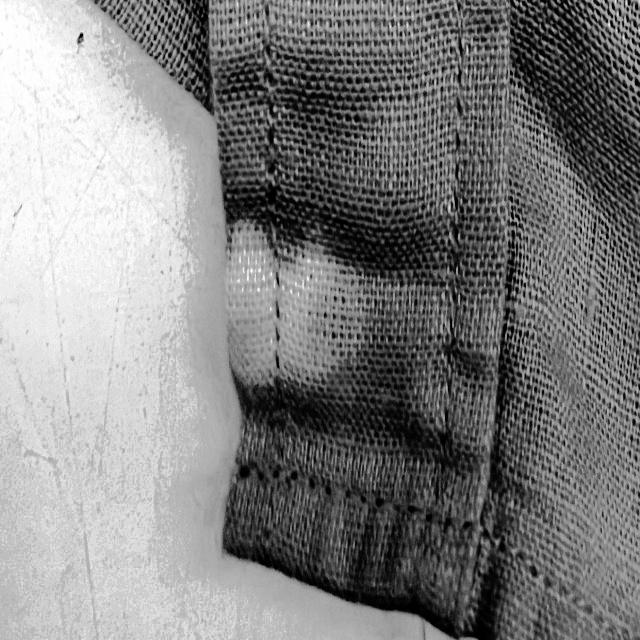Color_defect: (220, 216, 360, 394)
